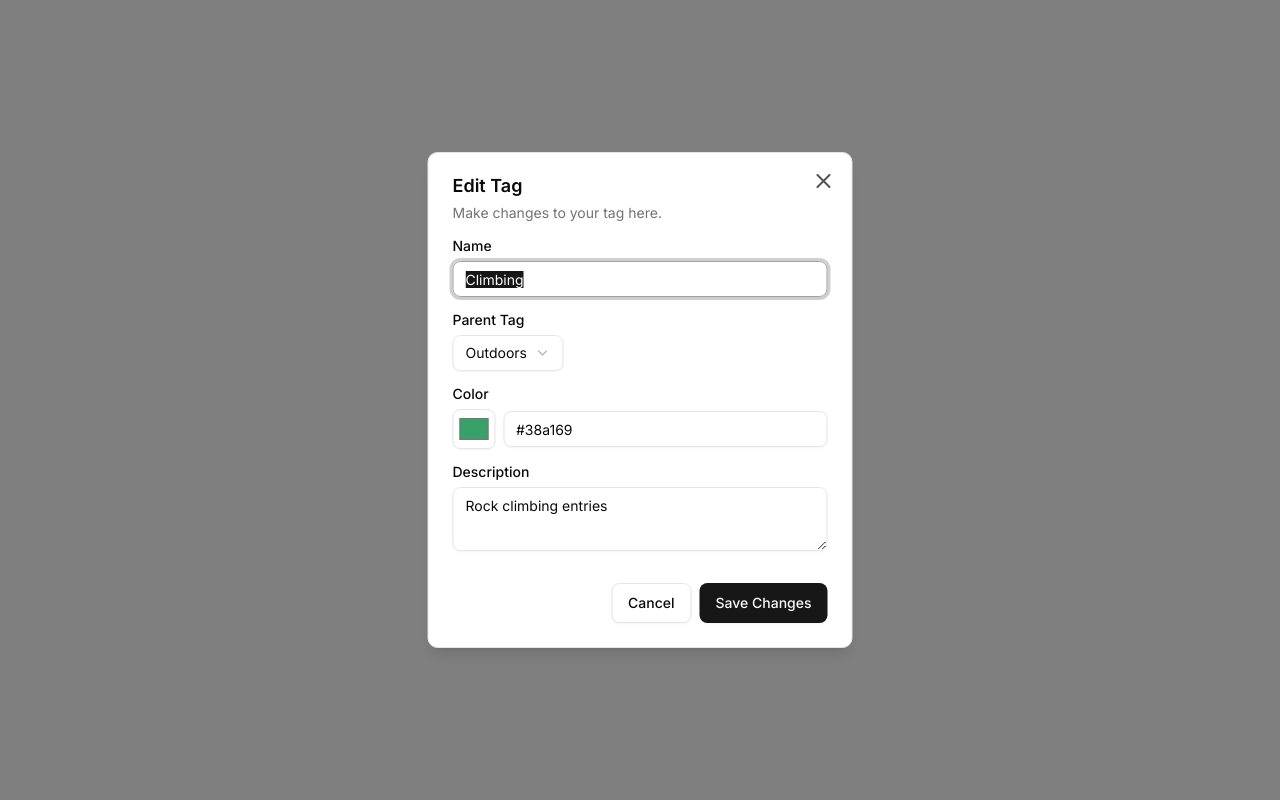
Test: TagFormDialog › rejects a colour that is not a 6-digit hex value
Replace the text in the field with placeholder "#000000" with "green" at (665, 429), box [503,411,828,447]
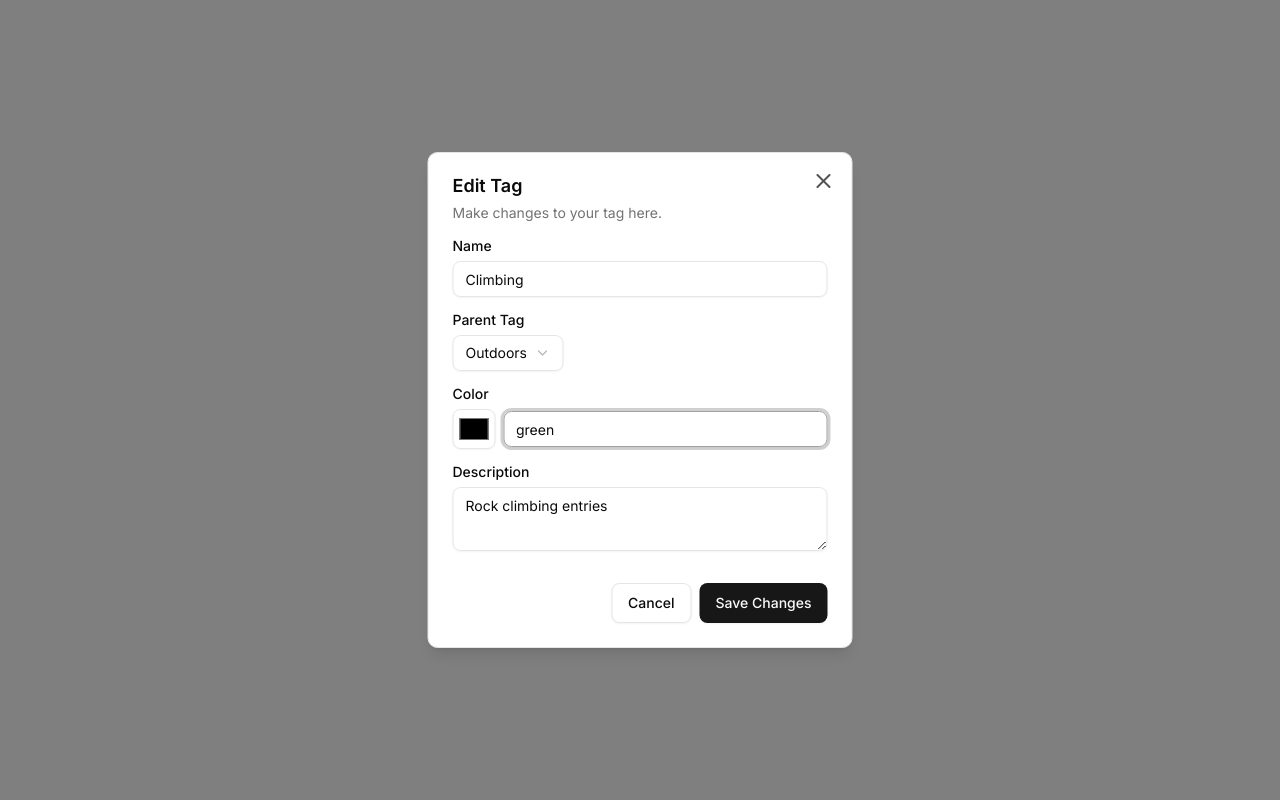
Click the button "Save Changes" at (764, 603), box [700,583,828,623]
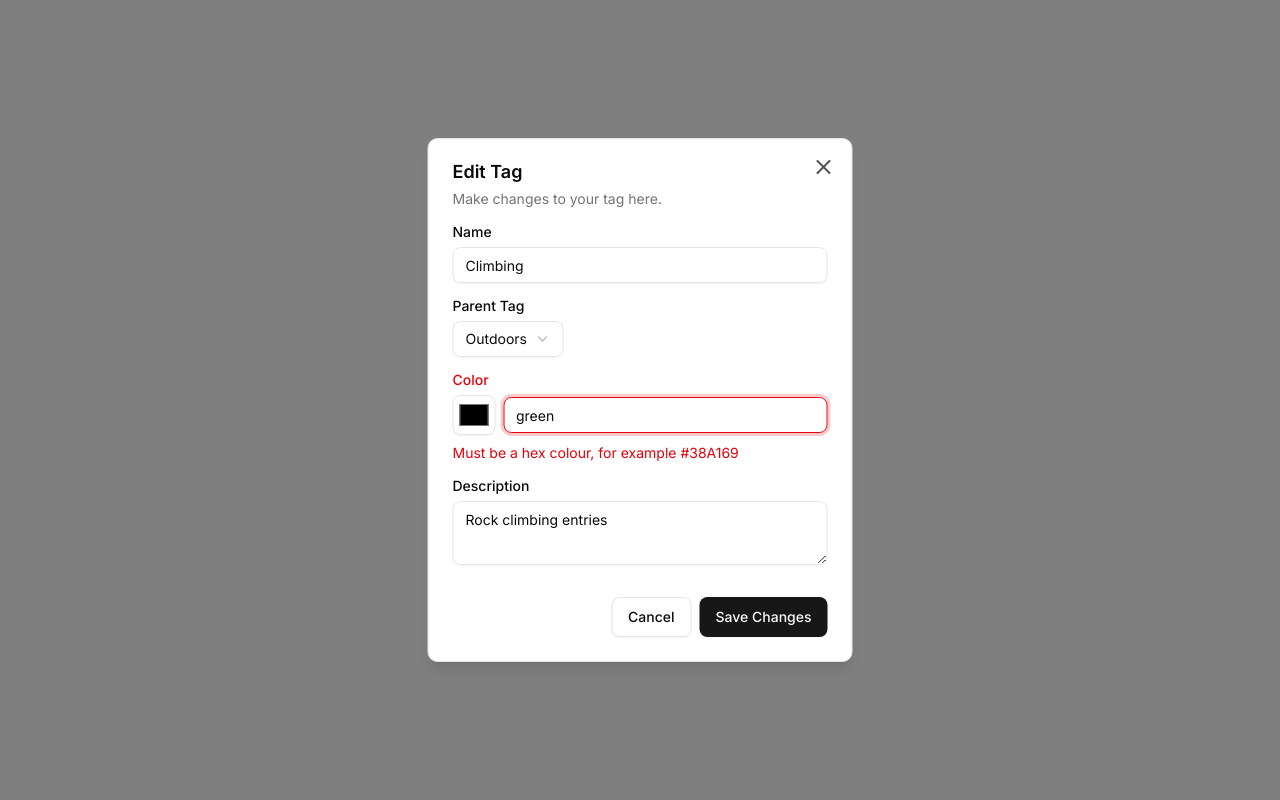
Result: the text "Must be a hex colour, for example #38A169" is shown at [452,444,739,461]
